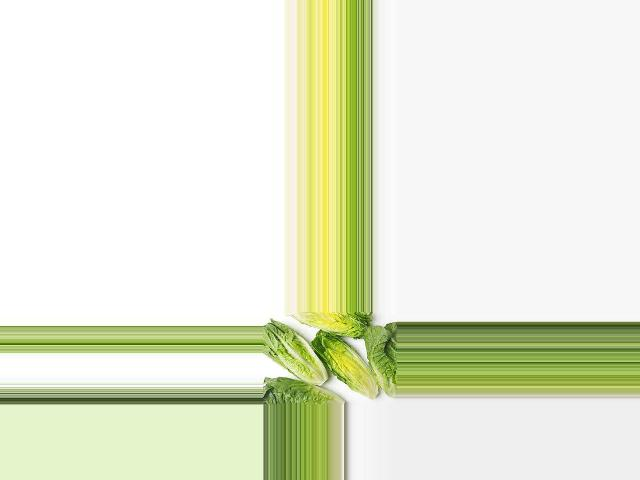lettuce: (361, 321, 397, 395)
